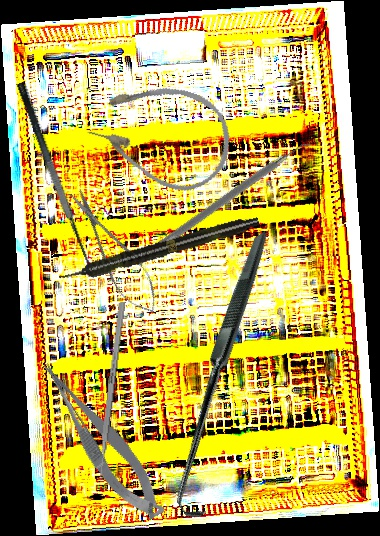Cannula: (79, 64, 243, 203)
Handpiece: (57, 212, 261, 287)
Hook Surgical: (79, 231, 376, 523)
Micro Scissor: (35, 347, 170, 532), (59, 181, 169, 323)
Pusher: (95, 301, 126, 492)
Spatula Surgical: (137, 135, 315, 271), (14, 75, 106, 273)
